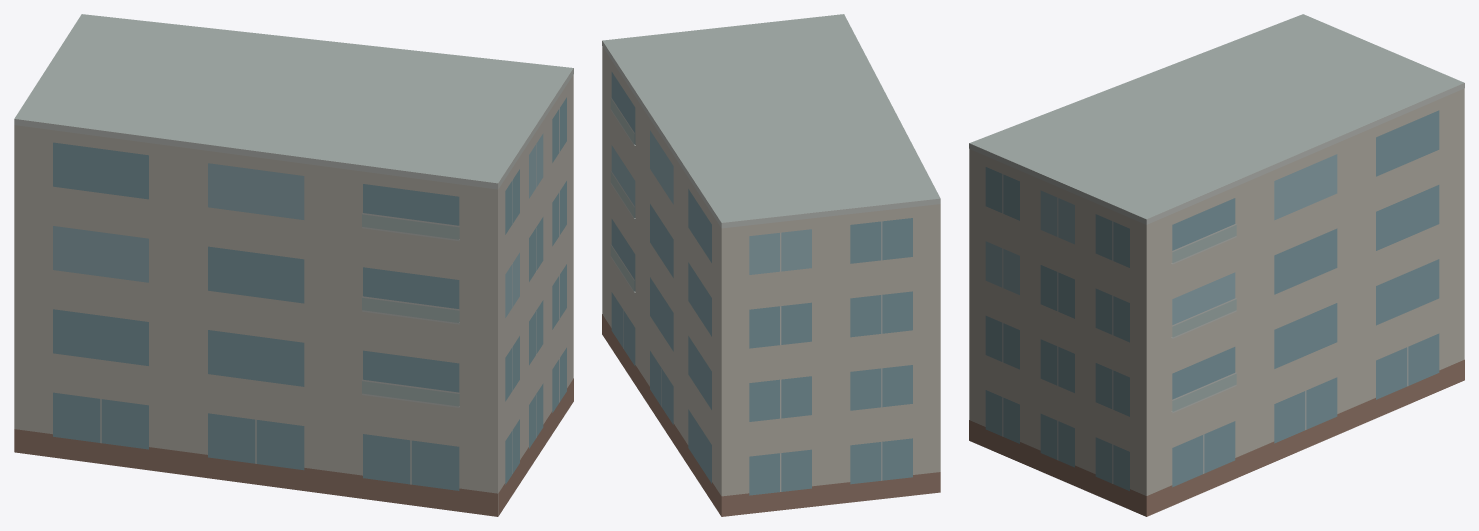
File: survey-upis-32834896.glb
3 views of the same model, side by side, from view 1: azimuth 30°, elevation 25°; view 2: azimuth 150°, elevation 25°; view 3: azimuth 270°, elevation 25° (orthographic). The views are drawn at different scales.
Visible parts, largest first — view 1: survey-upis-32834896.tmp; view 2: survey-upis-32834896.tmp; view 3: survey-upis-32834896.tmp.
Part boxes in pixels (x1,y1,x2,y2): survey-upis-32834896.tmp: (14, 14, 573, 516); survey-upis-32834896.tmp: (602, 14, 940, 516); survey-upis-32834896.tmp: (969, 14, 1464, 516).
Size of the model in its own units: 19.4 by 13.1 by 19.78.
